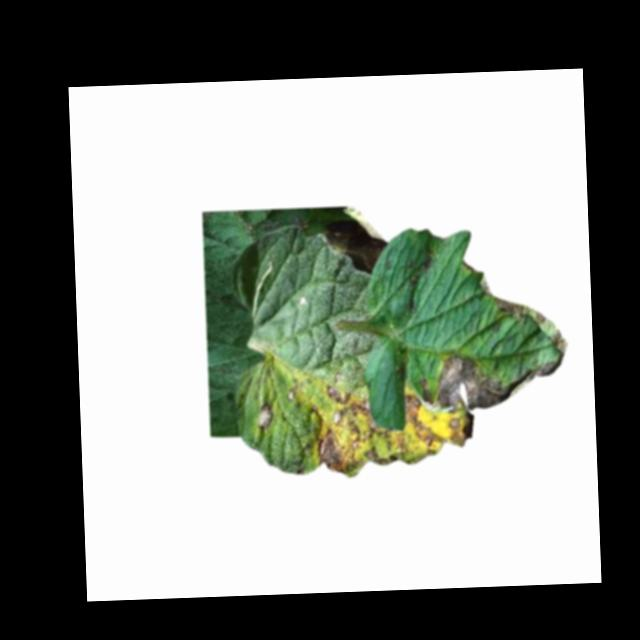Early_blight: (315, 380, 468, 480), (418, 351, 558, 413), (479, 268, 570, 354), (323, 204, 385, 275), (257, 399, 275, 426)
